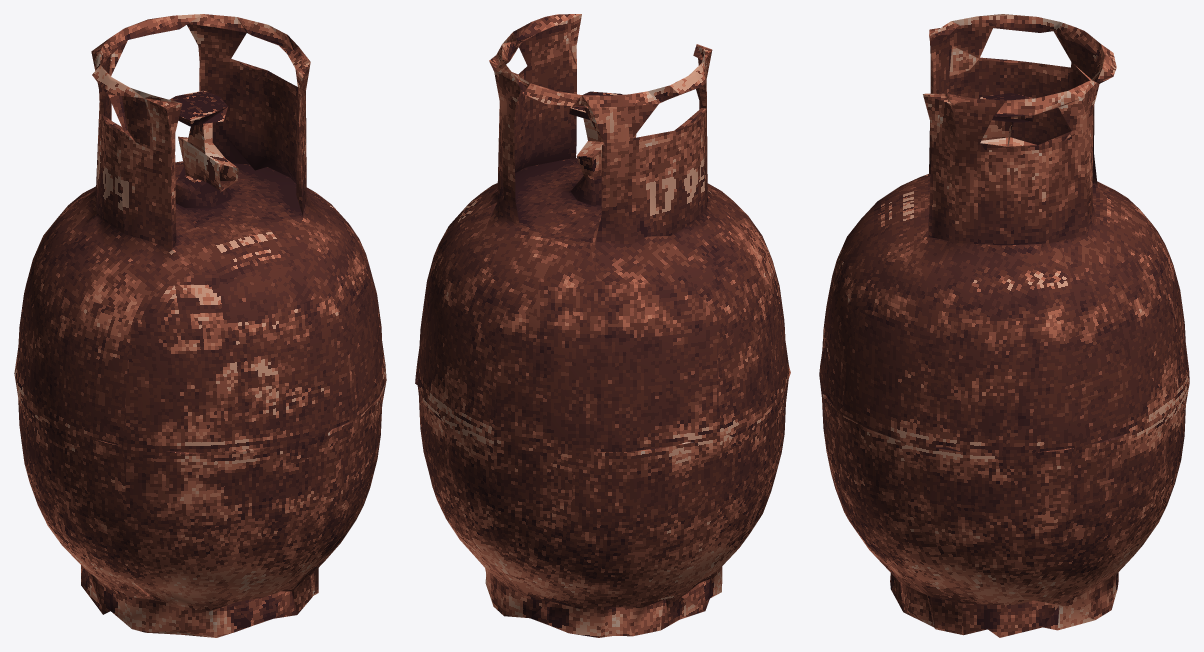
File: small_lpg_tank.glb
The picture shows the model from 3 angles, left to right: view 1: azimuth 30°, elevation 25°; view 2: azimuth 150°, elevation 25°; view 3: azimuth 270°, elevation 25°; orthographic projection.
Parts seen in each view (by area): view 1: body; view 2: body; view 3: body.
Part boxes in pixels (x1,y1,x2,y2): body: [14, 14, 386, 637]; body: [415, 14, 790, 637]; body: [819, 14, 1189, 637].
Size of the model in its own units: 0.4062 by 0.642 by 0.4049.
1 material, 1 textured.
